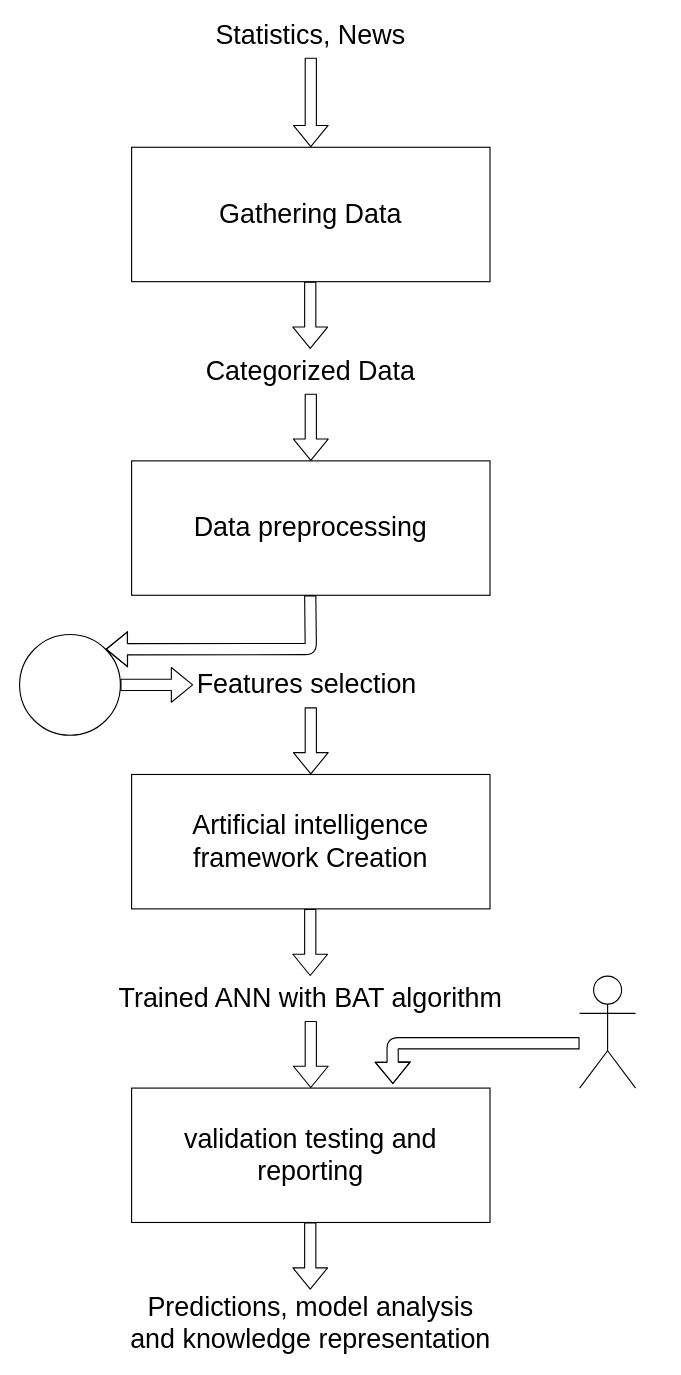
Some shapes in this 681 by 1375 pixel diagram are drawn without their labels. Here are the shapes that lost their labels. From the top down, the centre of each, then its label:
pixel 69 684: Voting Node
pixel 607 1031: EXPERT
